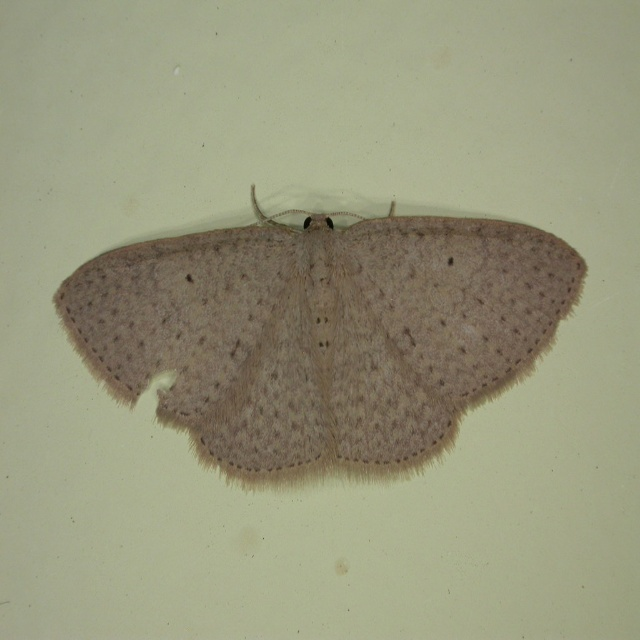Butterfly: (53, 177, 573, 491)
